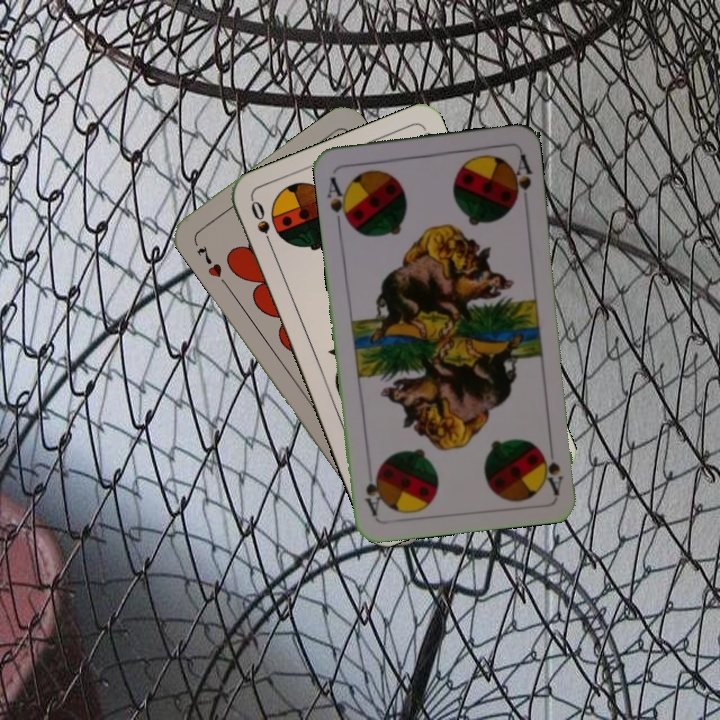H7: (193, 241, 225, 280)
SA: (323, 173, 354, 229), (539, 437, 566, 496)
SO: (246, 196, 277, 253)
